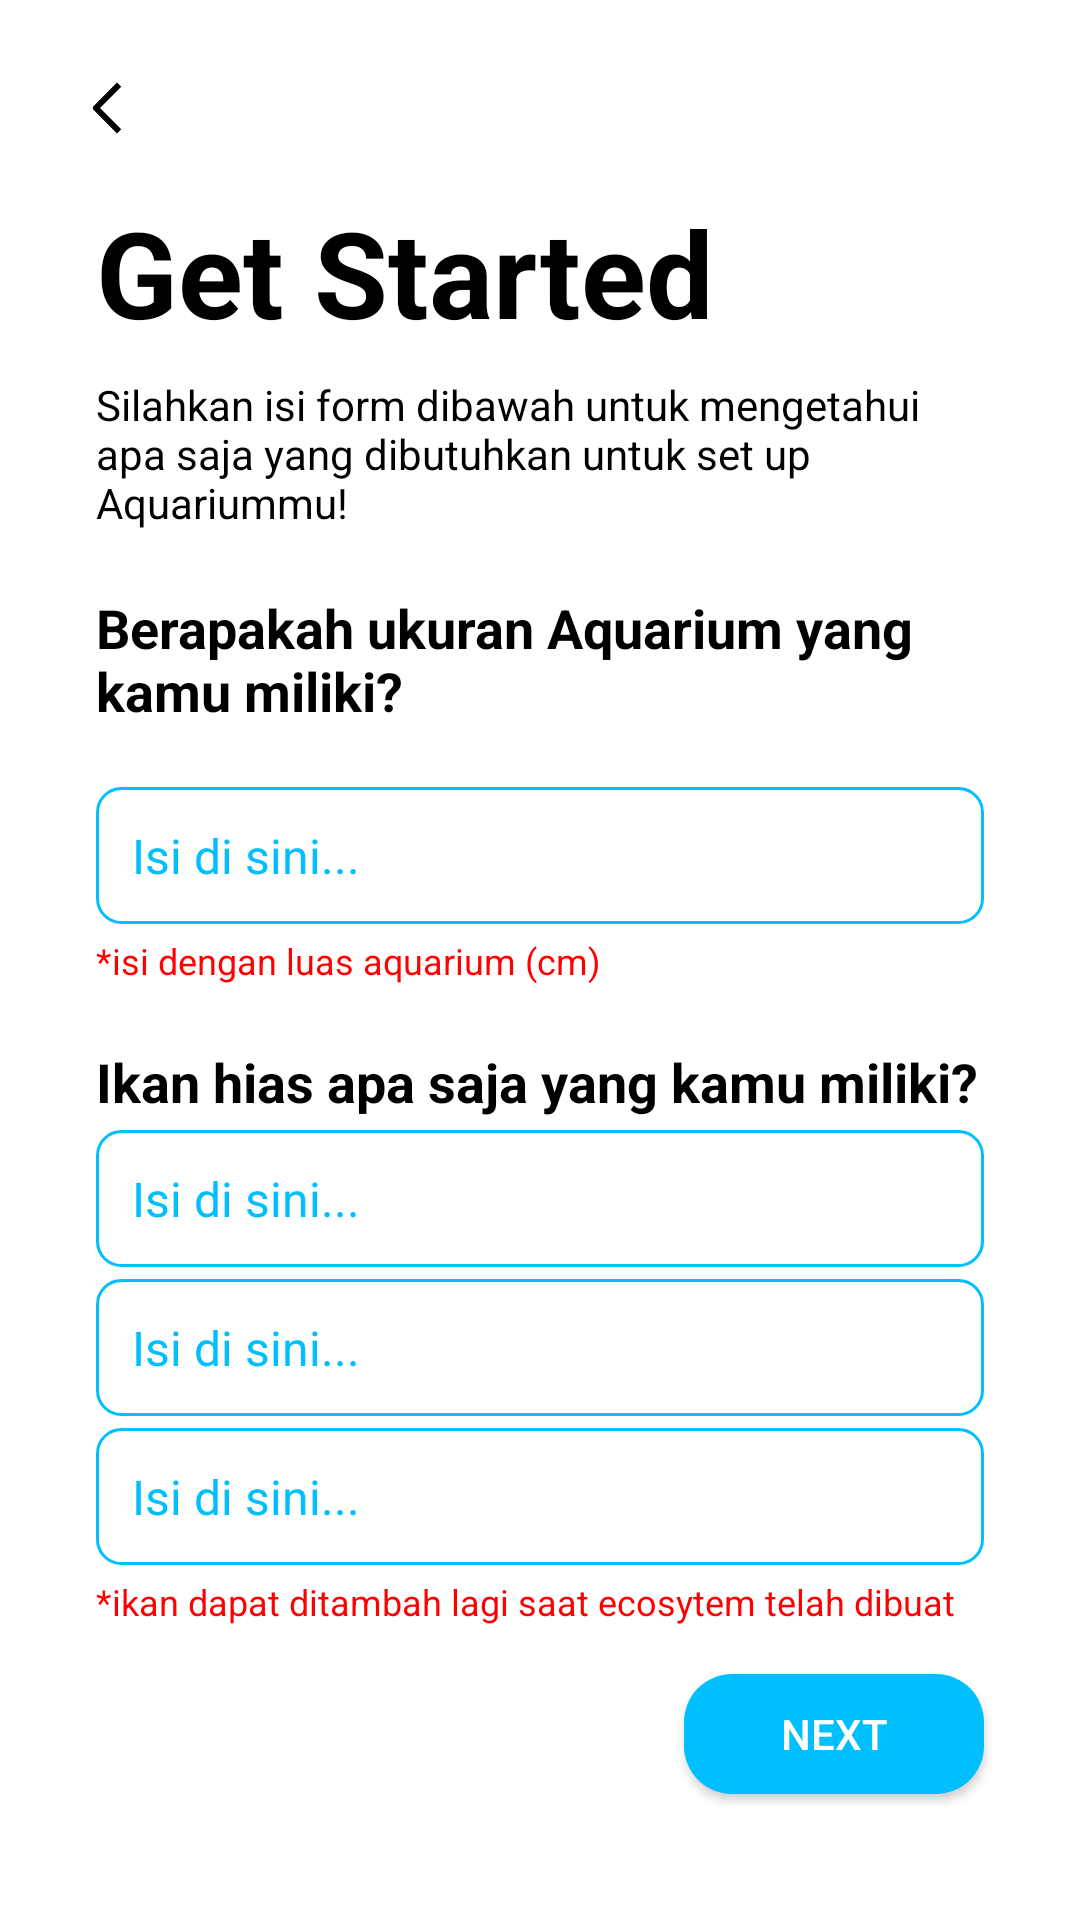

Locate icon controls on the screen. Image size 1080×1920, boxes as (x1, y1, x2, y2).
back: (92, 82, 121, 134)
